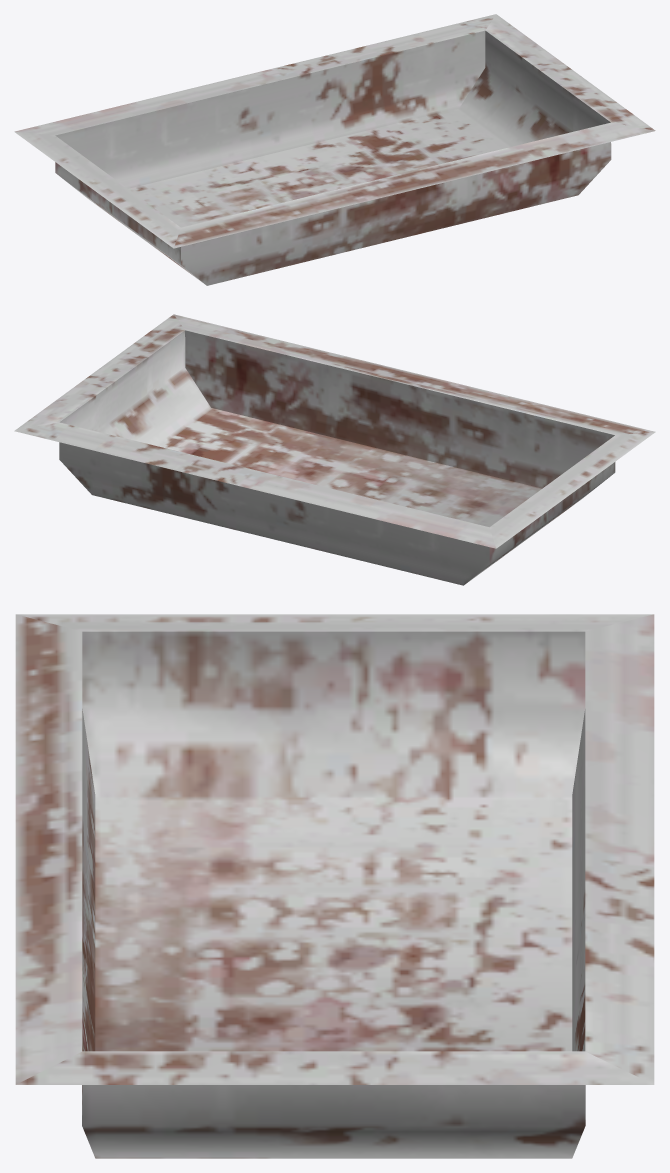
Rendered from SM_TrashScrapCase_05_A.fbx.
3 renders of one model, top to bottom at view 1: azimuth 30°, elevation 25°; view 2: azimuth 150°, elevation 25°; view 3: azimuth 270°, elevation 25°, orthographic. The views are drawn at different scales.
Parts seen in each view (by area): view 1: SM_TrashScrapCase_05_A; view 2: SM_TrashScrapCase_05_A; view 3: SM_TrashScrapCase_05_A.
Part boxes in pixels (x1,y1,x2,y2): SM_TrashScrapCase_05_A: [14, 14, 655, 285]; SM_TrashScrapCase_05_A: [14, 314, 655, 585]; SM_TrashScrapCase_05_A: [15, 614, 654, 1158].
Bounding box in the file's own units: 34.7 × 19.9 × 4.67.
1 material, 1 textured.
